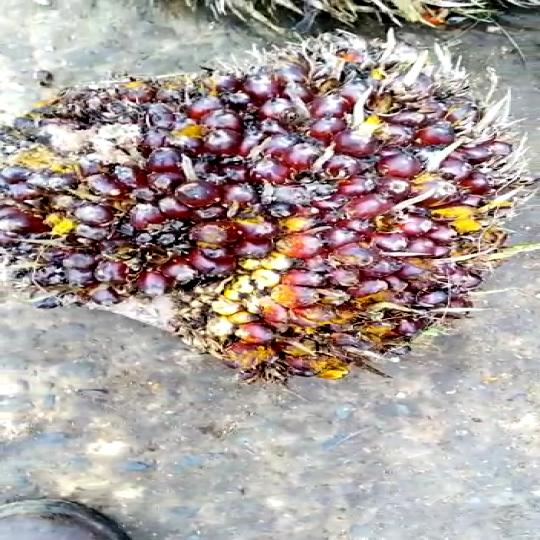masak: (0, 0, 532, 386)
